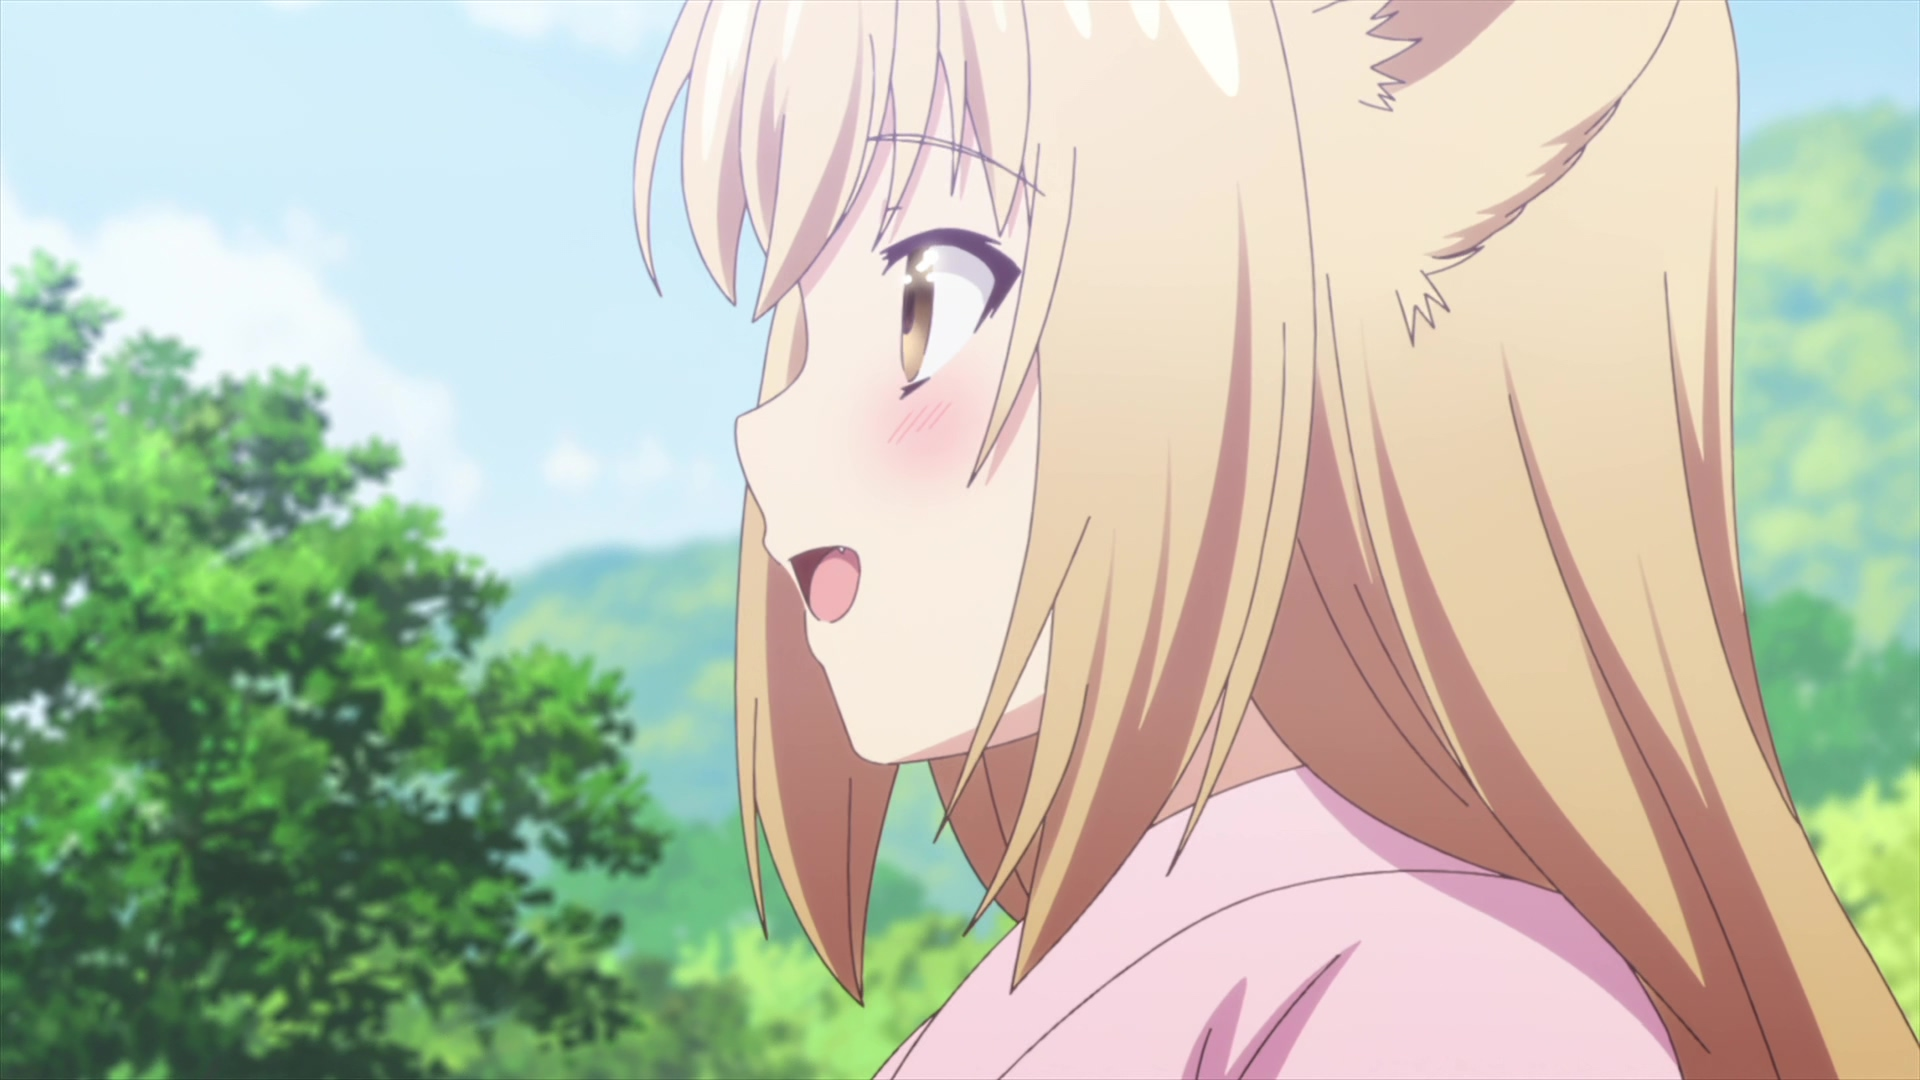柚: (630, 1, 1920, 1080)
